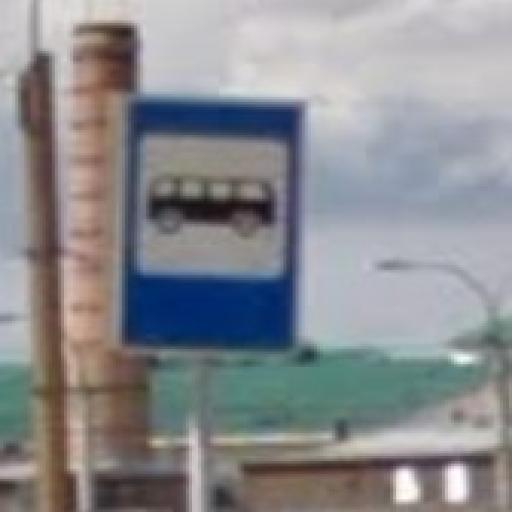traffic_sign: (111, 93, 309, 363)
